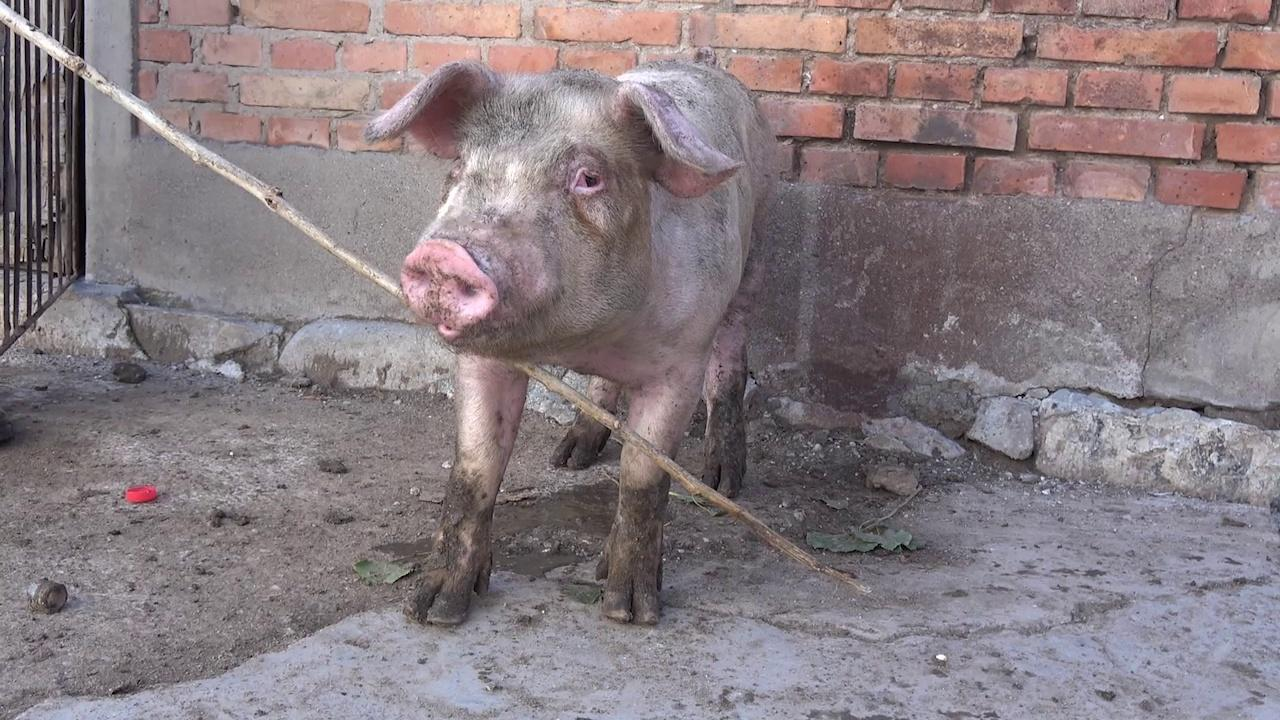Face: (356, 62, 748, 343)
